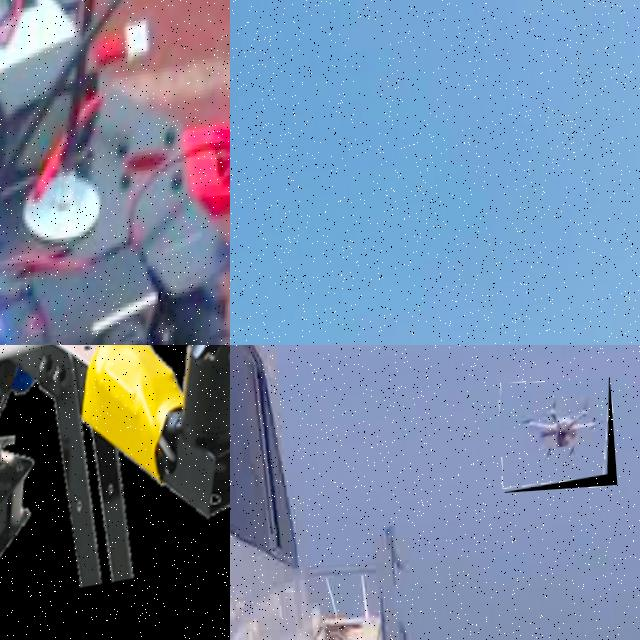0: (497, 377, 618, 492)
drone: (0, 0, 230, 345), (0, 345, 230, 640)
